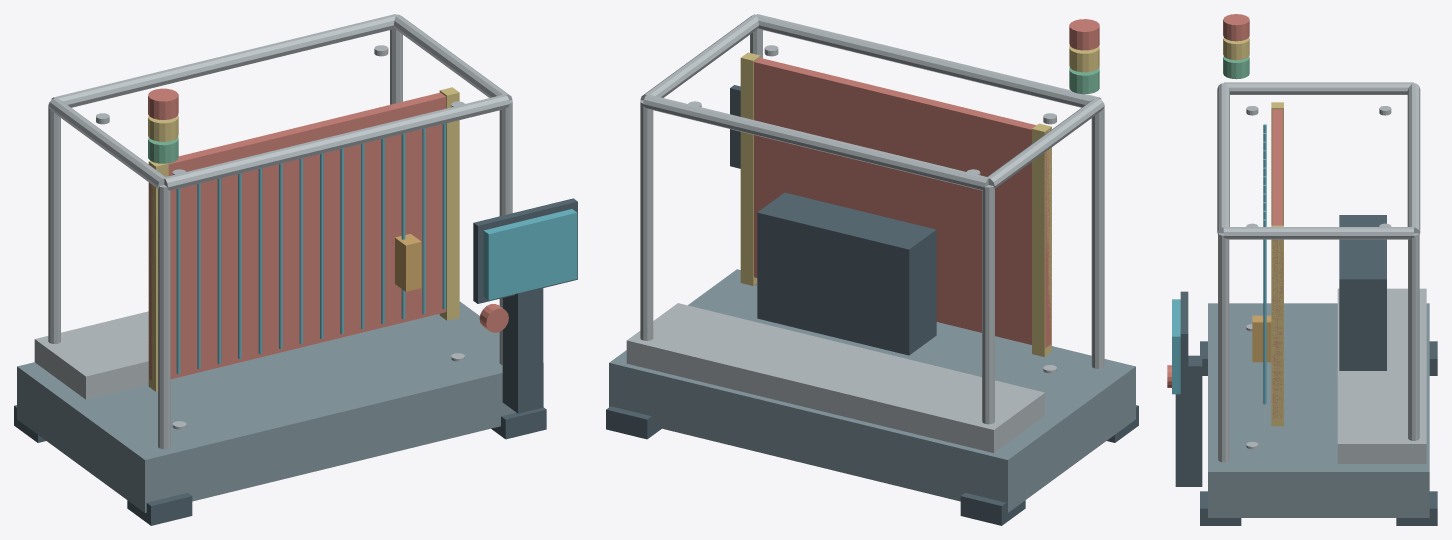
Rendered from risk.glb.
The picture shows the model from 3 angles, left to right: view 1: azimuth 30°, elevation 25°; view 2: azimuth 150°, elevation 25°; view 3: azimuth 270°, elevation 25°; orthographic projection. The views are drawn at different scales.
Visible parts, largest first — view 1: fabricated_base, safety_gate, control_plinth, operator_hmi_screen, toprail_1.5, toprail_-1.5, operator_hmi_pedestal, frame_-2.7_1.5, guard_post_2.3, frame_-2.7_-1.5, operator_hmi_bezel, crossrail_-2.7 (+25 smaller); view 2: fabricated_base, safety_gate, control_plinth, safety_controller, toprail_-1.5, toprail_1.5, guard_post_-2.3, frame_-2.7_1.5, frame_2.7_-1.5, guard_post_2.3, frame_-2.7_-1.5, crossrail_-2.7 (+7 smaller); view 3: fabricated_base, control_plinth, safety_controller, operator_hmi_pedestal, frame_2.7_1.5, guard_post_2.3, crossrail_2.7, frame_2.7_-1.5, crossrail_-2.7, safety_gate, toprail_-1.5, toprail_1.5 (+10 smaller).
Boxes of the visible parts, x1,y1,x2,y2 form: fabricated_base: (17,301,543,512); safety_gate: (149,92,446,380); control_plinth: (34,311,148,399); operator_hmi_screen: (483,209,577,300); toprail_1.5: (163,94,509,190); toprail_-1.5: (51,14,396,107); operator_hmi_pedestal: (502,287,543,413); frame_-2.7_1.5: (158,185,170,449); guard_post_2.3: (439,87,459,320); frame_-2.7_-1.5: (48,103,60,343); operator_hmi_bezel: (473,198,577,303); crossrail_-2.7: (48,98,165,188); fabricated_base: (609,269,1135,512); safety_gate: (754,58,1050,347); control_plinth: (626,303,1044,452); safety_controller: (757,192,936,355); toprail_-1.5: (643,94,988,190); toprail_1.5: (756,14,1101,107); guard_post_-2.3: (1032,123,1051,356); frame_-2.7_1.5: (1091,103,1104,368); frame_2.7_-1.5: (640,100,653,340); guard_post_2.3: (740,52,760,285); frame_-2.7_-1.5: (982,185,994,424); crossrail_-2.7: (987,98,1104,188); fabricated_base: (1208,303,1429,517); control_plinth: (1337,288,1426,463); safety_controller: (1339,215,1386,370); operator_hmi_pedestal: (1175,355,1202,486); frame_2.7_1.5: (1218,233,1229,462); guard_post_2.3: (1271,225,1283,426); crossrail_2.7: (1223,227,1413,239); frame_2.7_-1.5: (1408,233,1419,440); crossrail_-2.7: (1223,82,1413,94); safety_gate: (1272,109,1282,418); toprail_-1.5: (1407,83,1420,233); toprail_1.5: (1217,83,1229,233).
Size of the model in its own units: 6.59 by 6.15 by 4.27.
